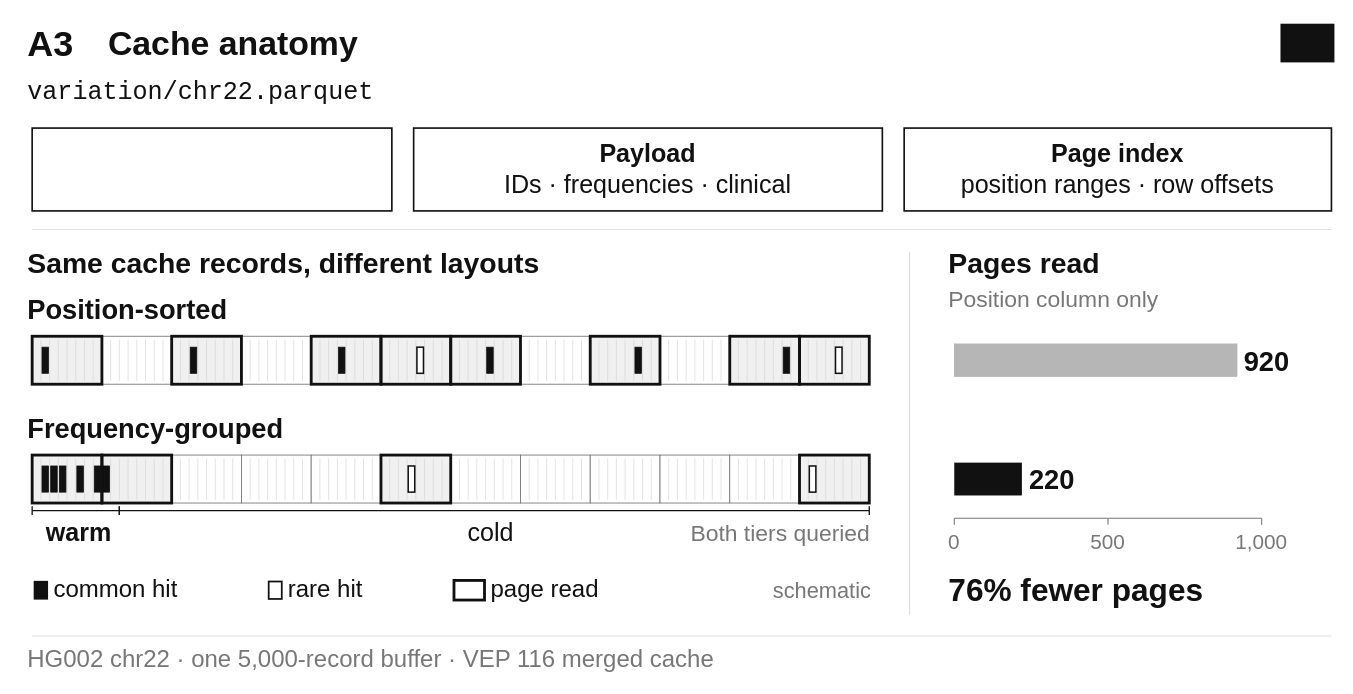
The diagram is 1353 pixels wide and 694 high, and some of its shapes have lost their labels. Each missing label, with the centre of its shape:
"ii" belongs at point 1307,42.
"Keys position · alleles" belongs at point 211,169.
